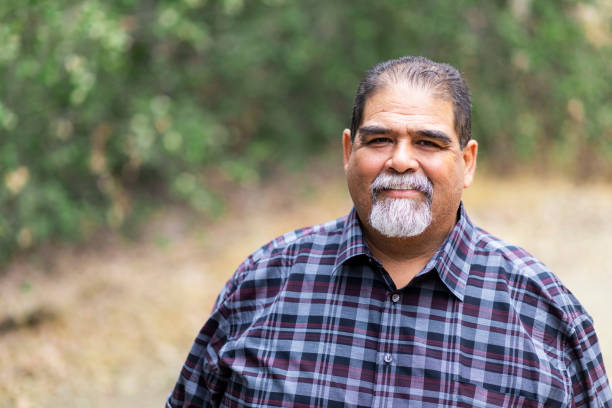face: (356, 96, 467, 237)
